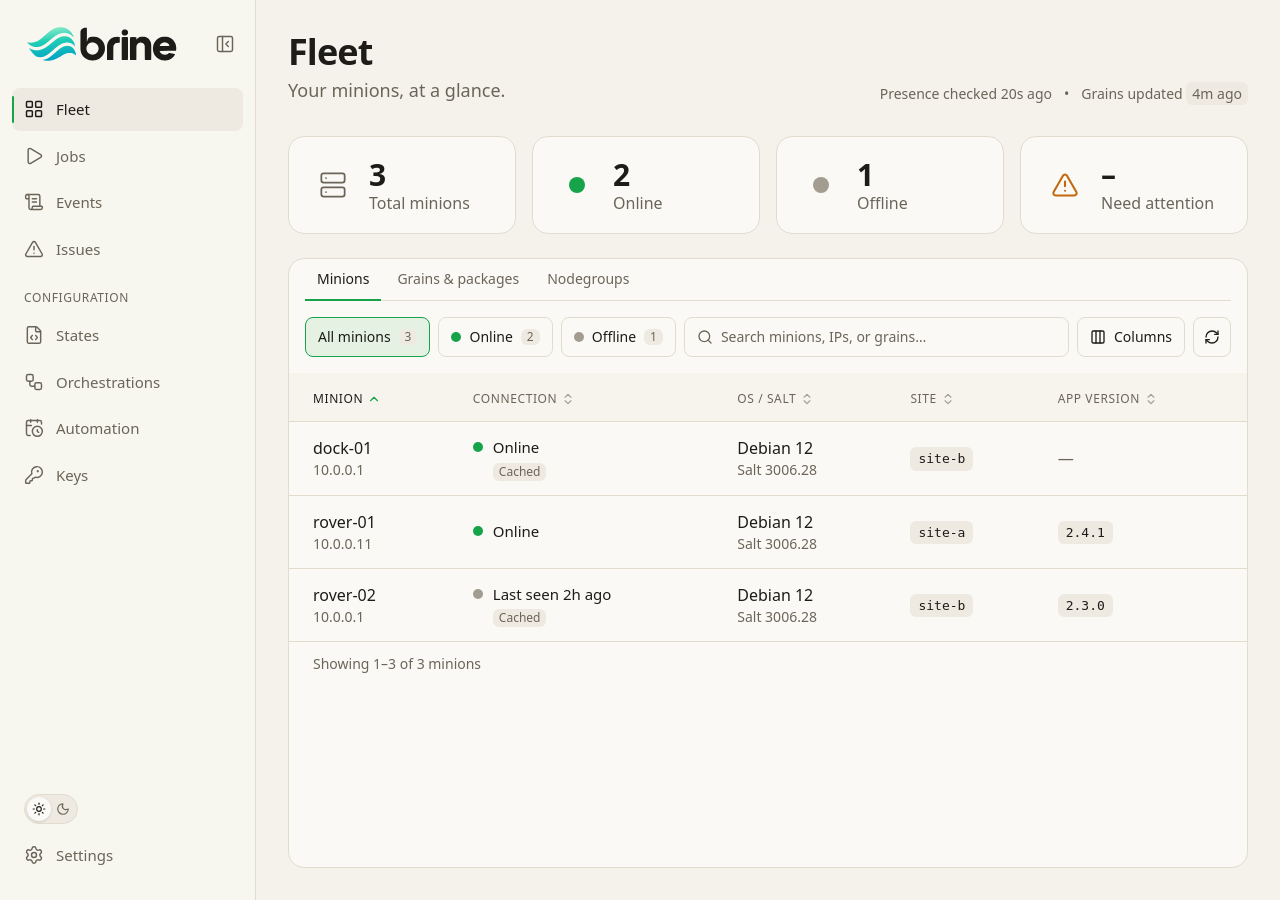
Test: FleetPage › adds an option when it is clicked, and stays ready for another
This screenshot has width=1280, height=900.
Expected: the link "rover-01" is shown, [313,510,376,532]
What coordinates should you click on to do the following:
click the button "Columns"
I would click on:
 (1131, 337)
Its box is [1077,317,1185,357].
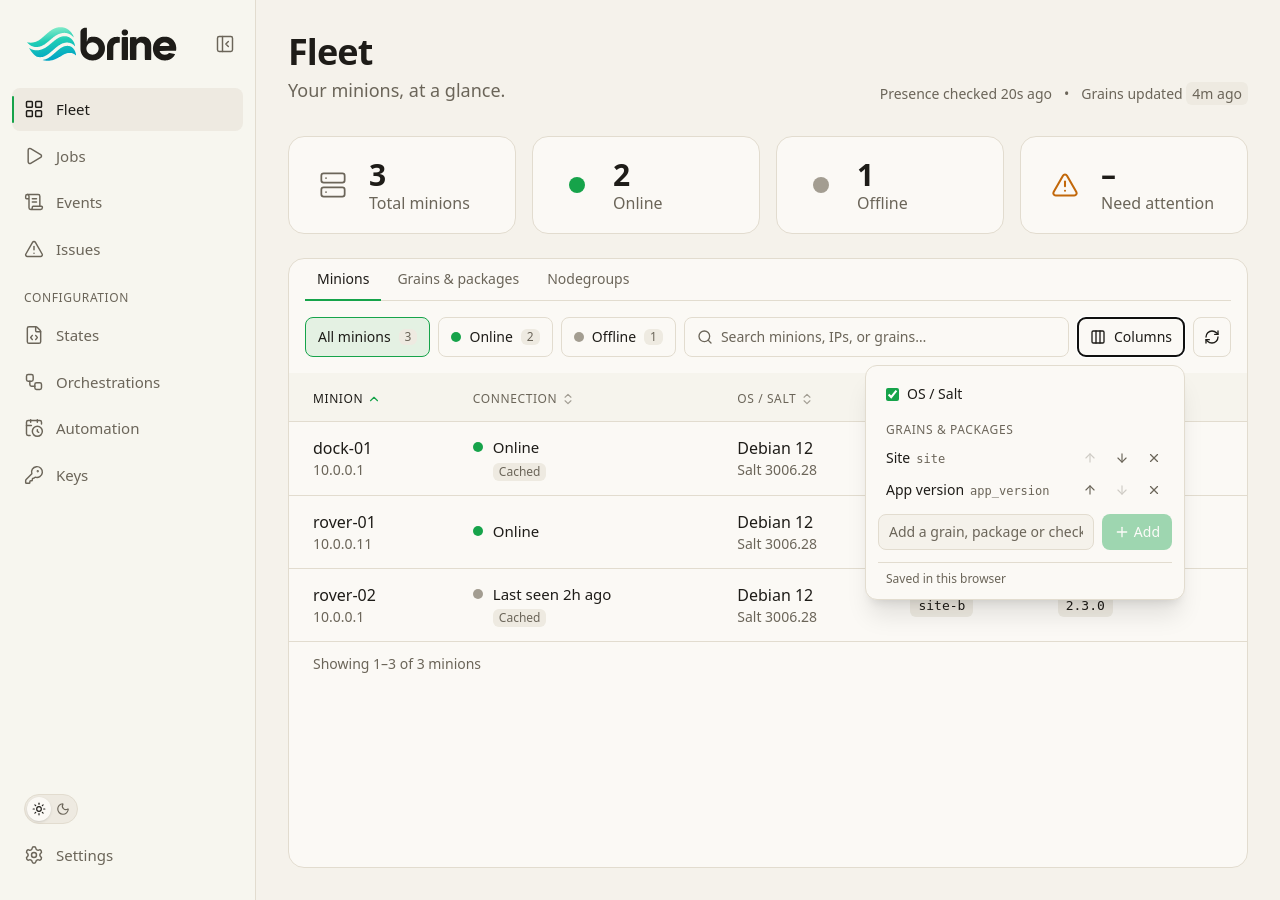
What coordinates should you click on to do the following:
click the dropdown labelled "Add a grain, package or check"
I would click on:
 (986, 532)
Its box is [878,514,1094,550].
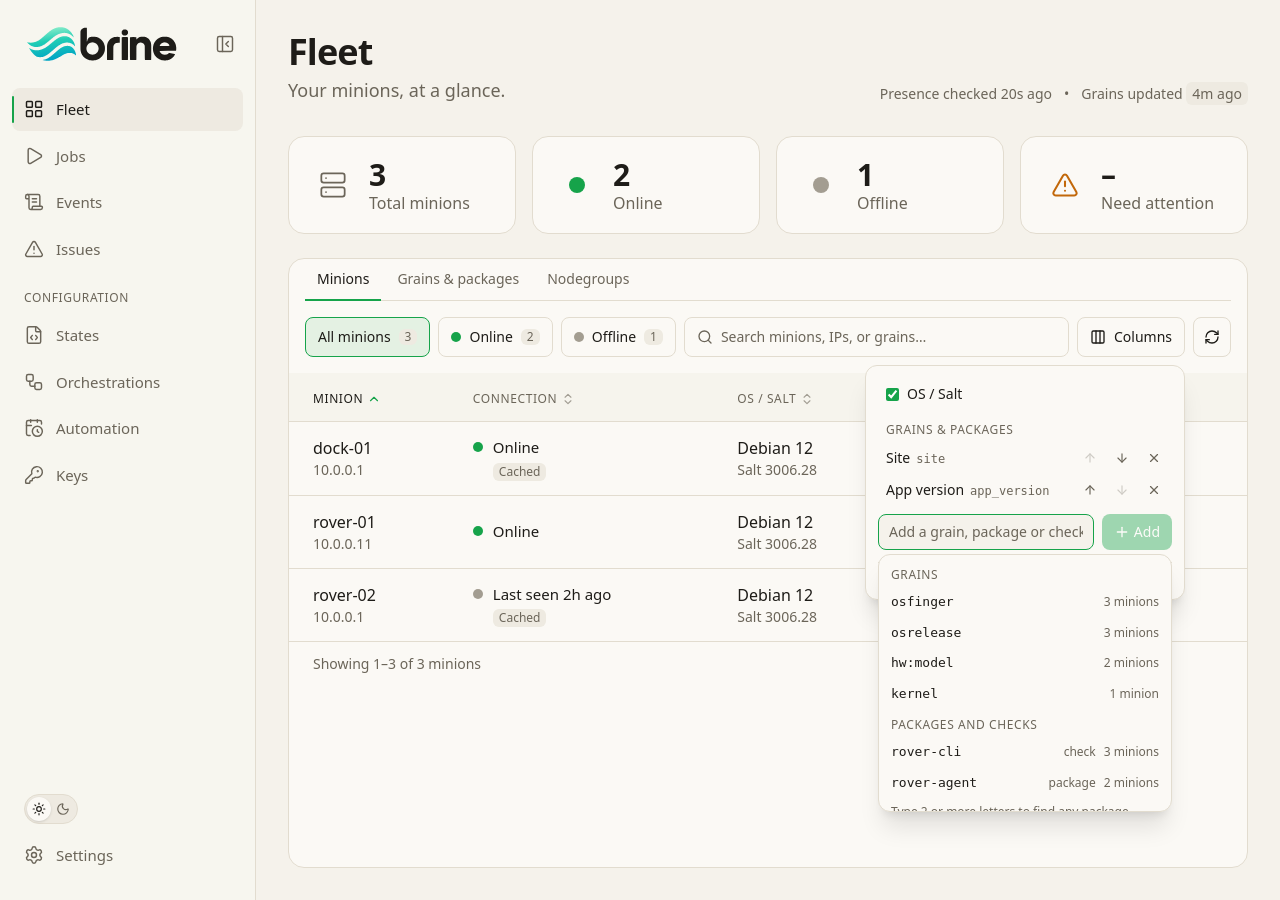
What coordinates should you click on to do the following:
click the option "kernel 1 minion"
I would click on:
 (914, 693)
Its box is [891,685,1159,702].
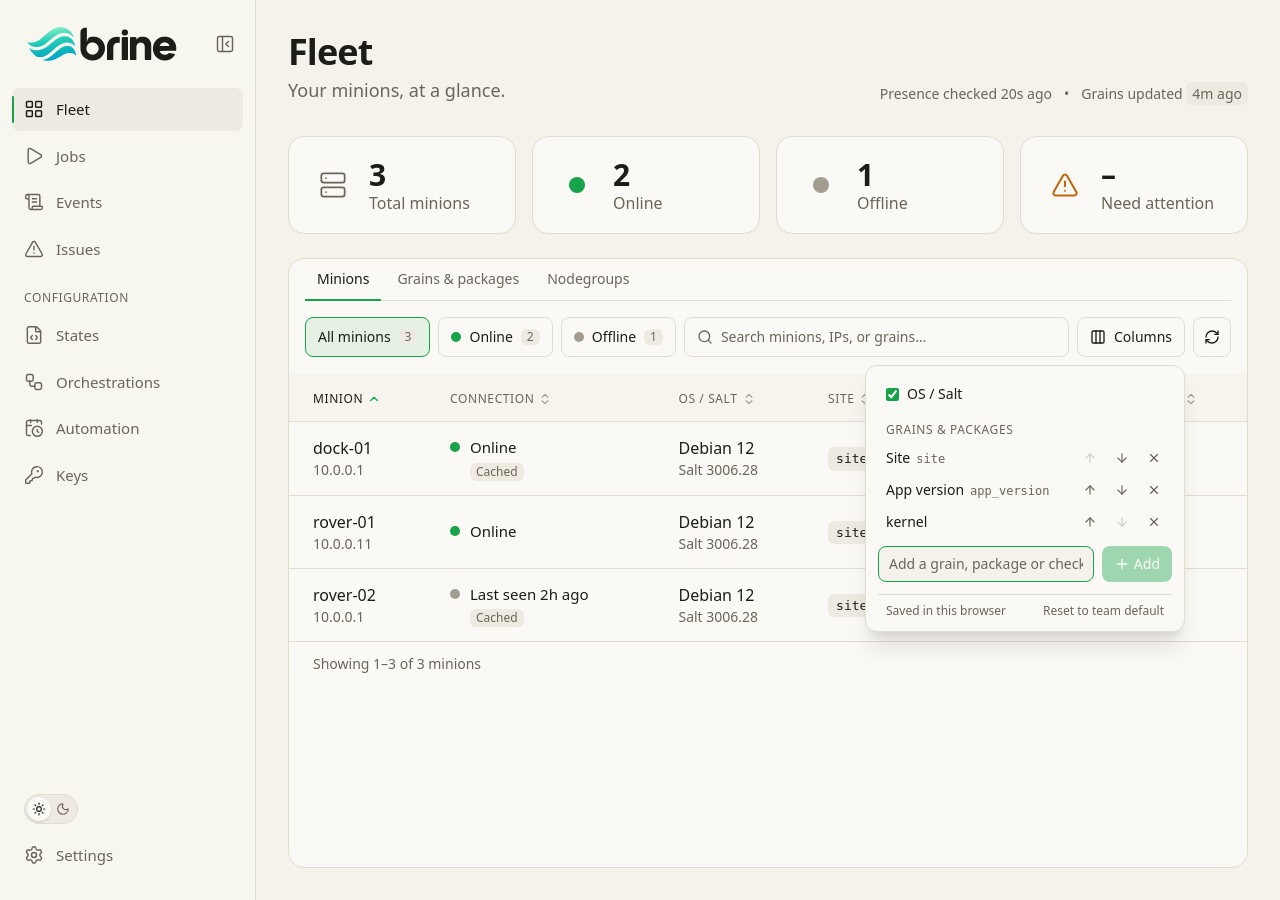
Result: the dropdown labelled "Add a grain, package or check" is empty at [878,546,1094,582]
Result: the column heading "kernel" is shown at [1117,373,1247,422]
